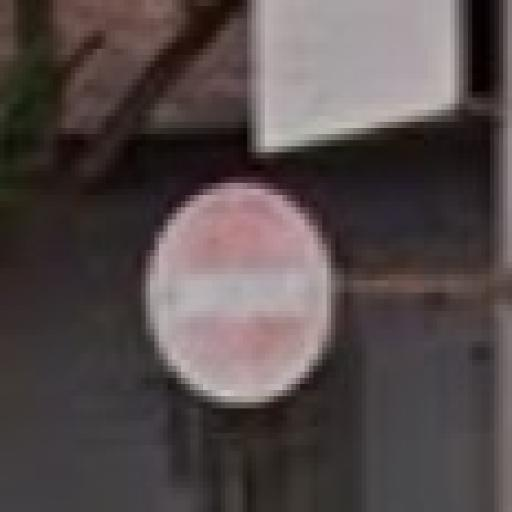traffic_sign: (147, 178, 337, 409)
